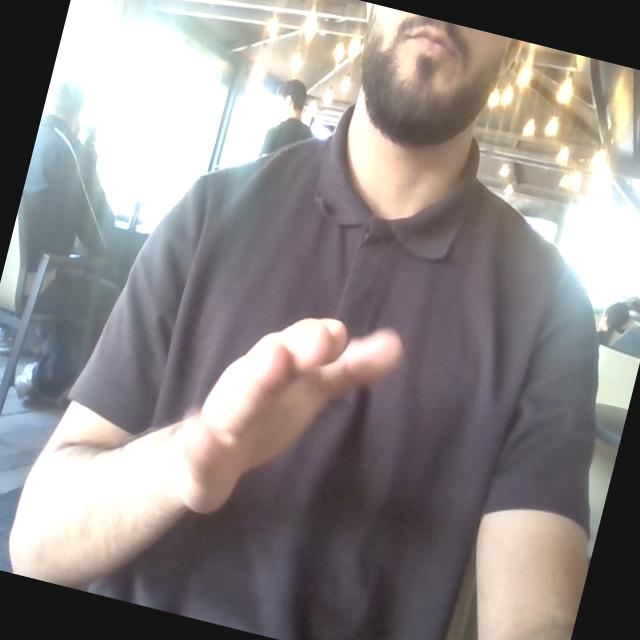Hand: (178, 318, 402, 512)
